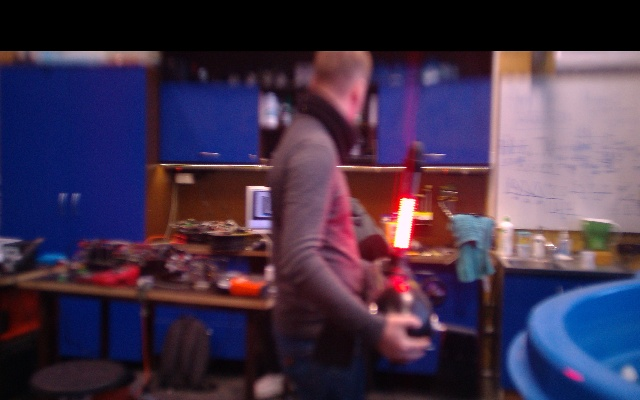red: (392, 198, 417, 256)
